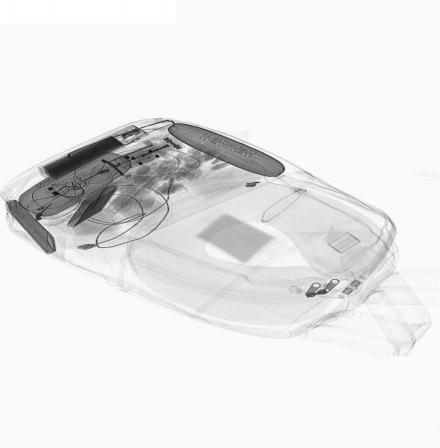Powerbank: (5, 199, 57, 254)
